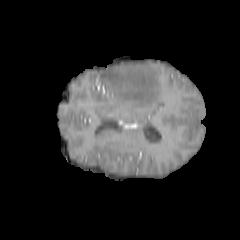glioma: (97, 62, 163, 112)
